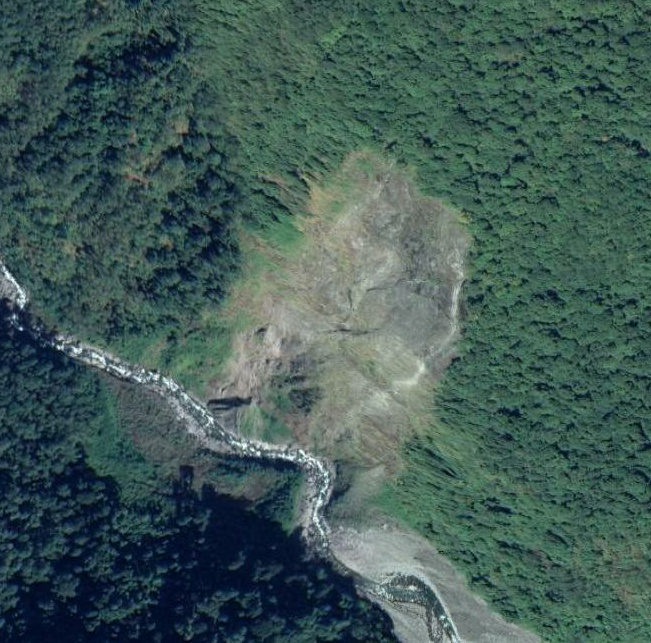slope: (197, 147, 477, 505), (333, 511, 529, 642)
